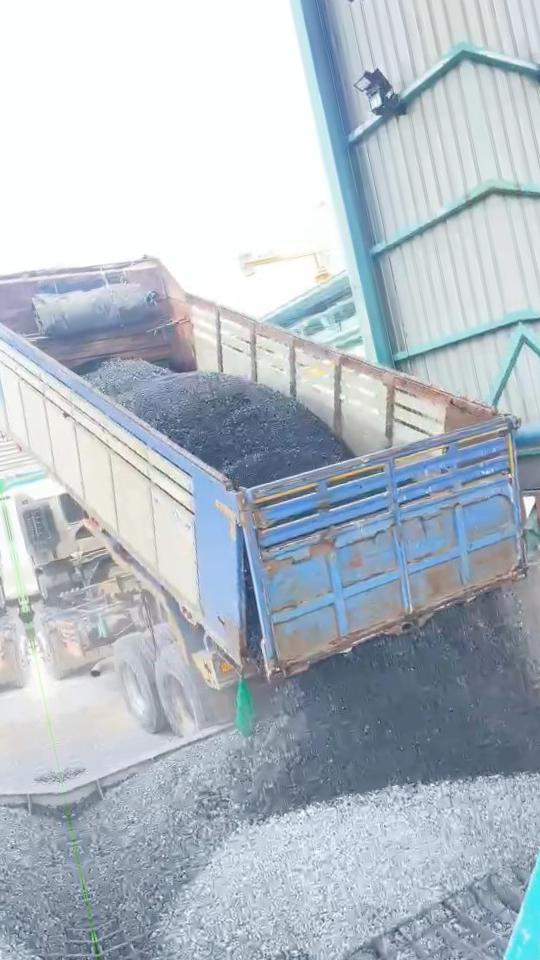gravel: (73, 601, 540, 960), (85, 358, 351, 486), (247, 573, 262, 656)
